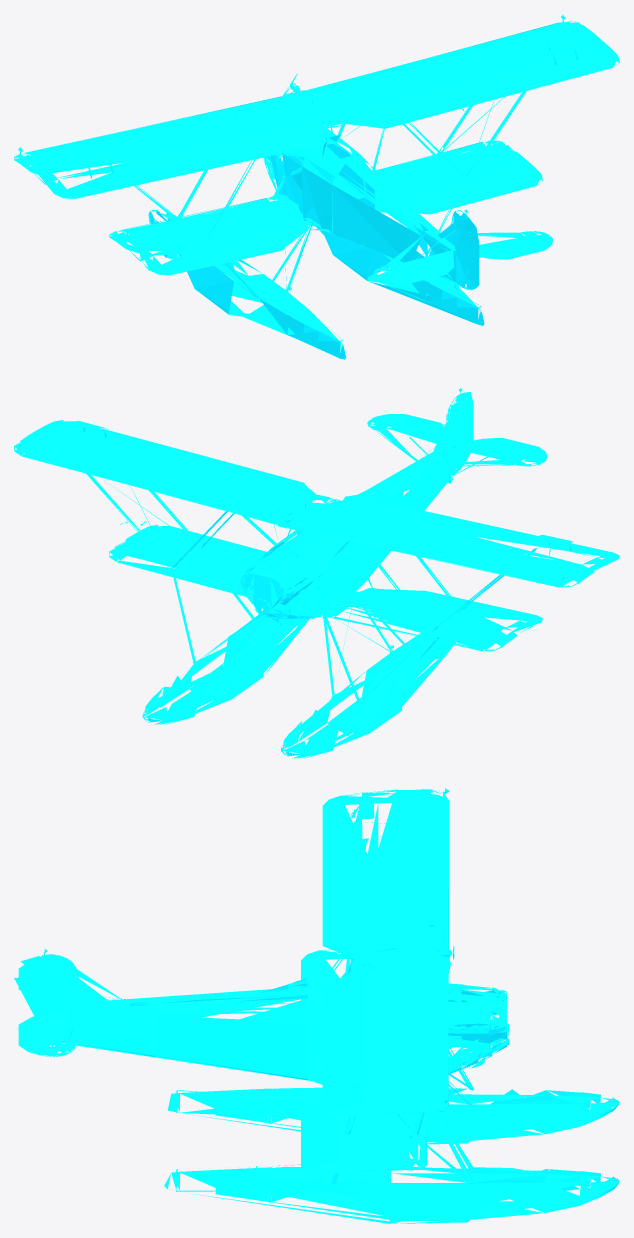
The model's file is PIAF001.glb.
3 views of the same model, one above another, from view 1: azimuth 30°, elevation 25°; view 2: azimuth 150°, elevation 25°; view 3: azimuth 270°, elevation 25° (orthographic). The views are drawn at different scales.
Parts seen in each view (by area): view 1: misc; view 2: misc; view 3: misc.
Part boxes in pixels (<box>): misc: <box>14,15,619,359</box>; misc: <box>14,388,619,758</box>; misc: <box>14,788,619,1223</box>.
Size of the model in its own units: 0.6532 by 0.2295 by 0.5197.
